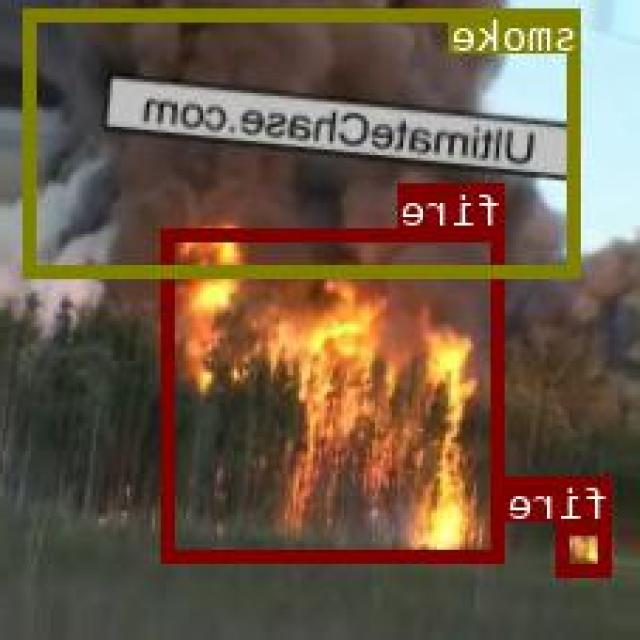fire: (166, 228, 506, 560), (560, 520, 612, 573)
smoke: (28, 8, 584, 276)
